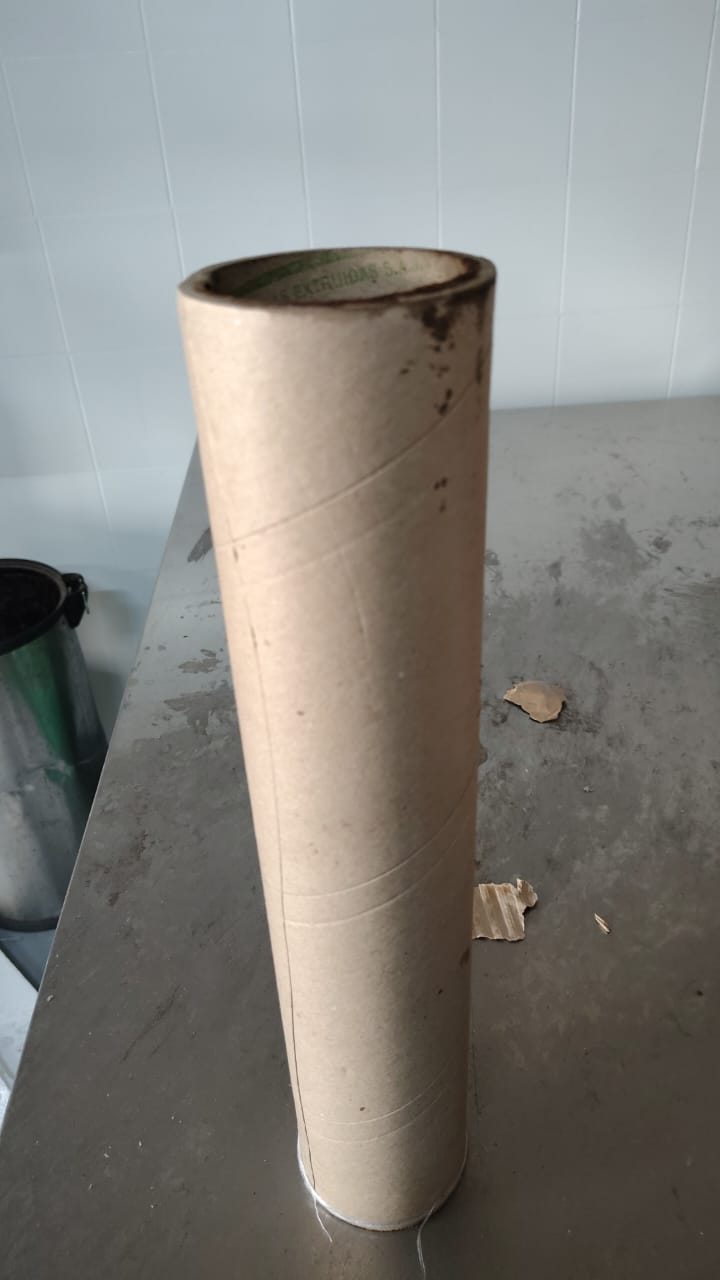Carton: (177, 245, 500, 1235)
